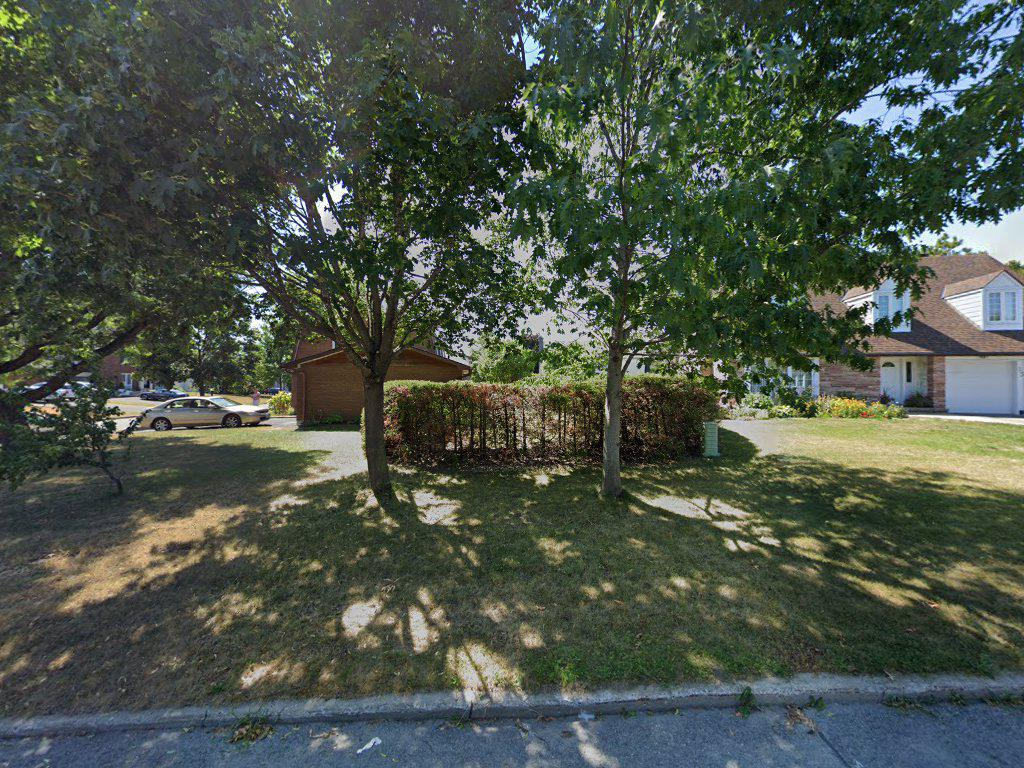trunk: (341, 303, 404, 516), (603, 323, 630, 508)
